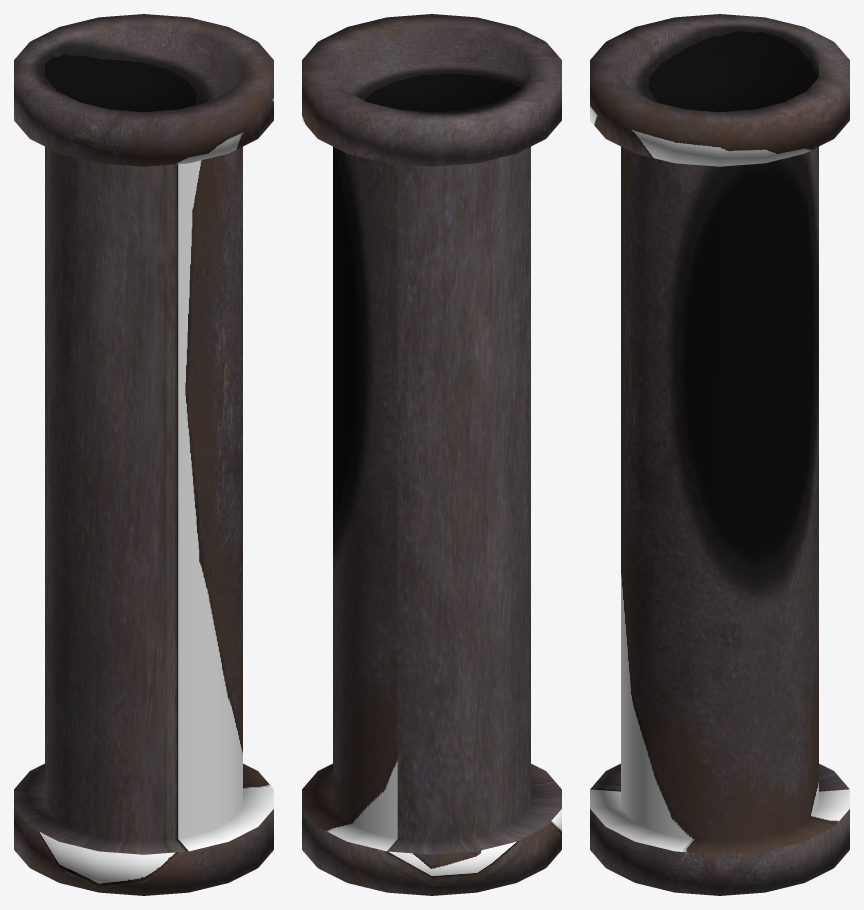
The model's file is Long_Straight_Pipe.fbx.
The picture shows the model from 3 angles, left to right: view 1: azimuth 30°, elevation 25°; view 2: azimuth 150°, elevation 25°; view 3: azimuth 270°, elevation 25°; orthographic projection.
Visible parts, largest first — view 1: Long_Staright_Pipe; view 2: Long_Staright_Pipe; view 3: Long_Staright_Pipe.
Boxes of the visible parts, left/top/right/bottom form: Long_Staright_Pipe: left=14, top=14, right=273, bottom=895; Long_Staright_Pipe: left=302, top=14, right=561, bottom=895; Long_Staright_Pipe: left=590, top=14, right=849, bottom=895.
Size of the model in its own units: 3.97 by 12.78 by 3.9.
